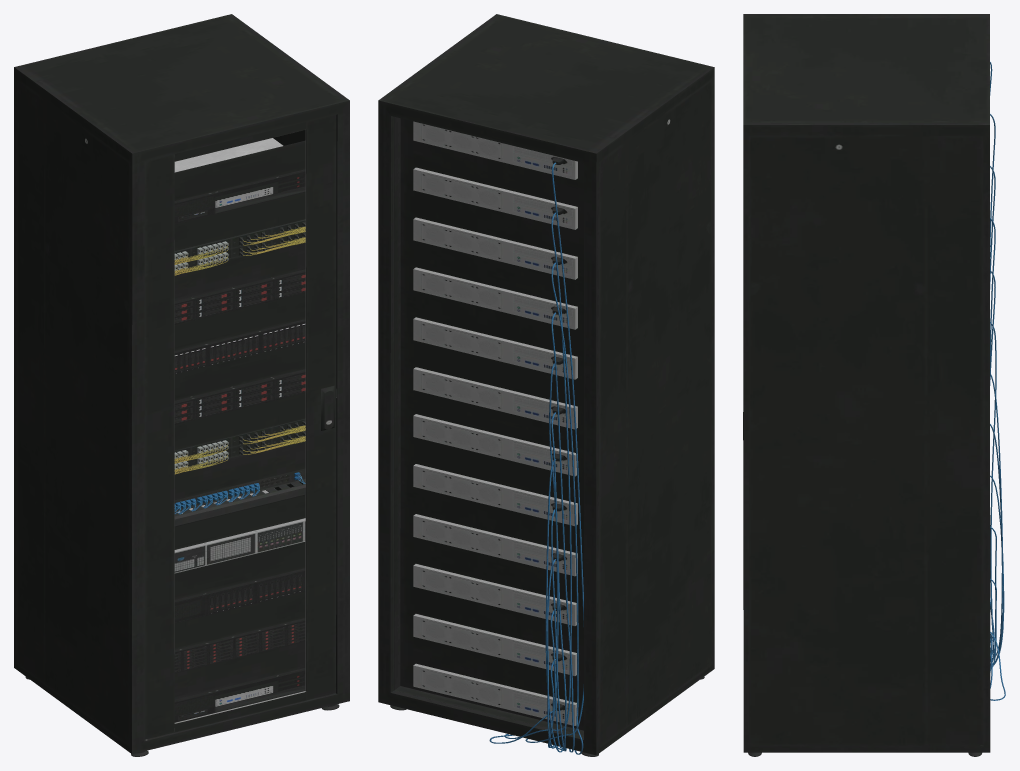
File: dev-server-rack.glb
3 views of the same model, side by side, from view 1: azimuth 30°, elevation 25°; view 2: azimuth 150°, elevation 25°; view 3: azimuth 270°, elevation 25° (orthographic). The views are drawn at different scales.
Visible parts, largest first — view 1: body; view 2: body; view 3: body.
Part boxes in pixels (x1=…): body: x1=14, y1=14, x2=349, y2=756; body: x1=378, y1=14, x2=714, y2=756; body: x1=743, y1=14, x2=1005, y2=756.
Size of what is drawn, in the model's own units: 0.6 by 1.6 by 0.6.
3 materials, 3 textured.
